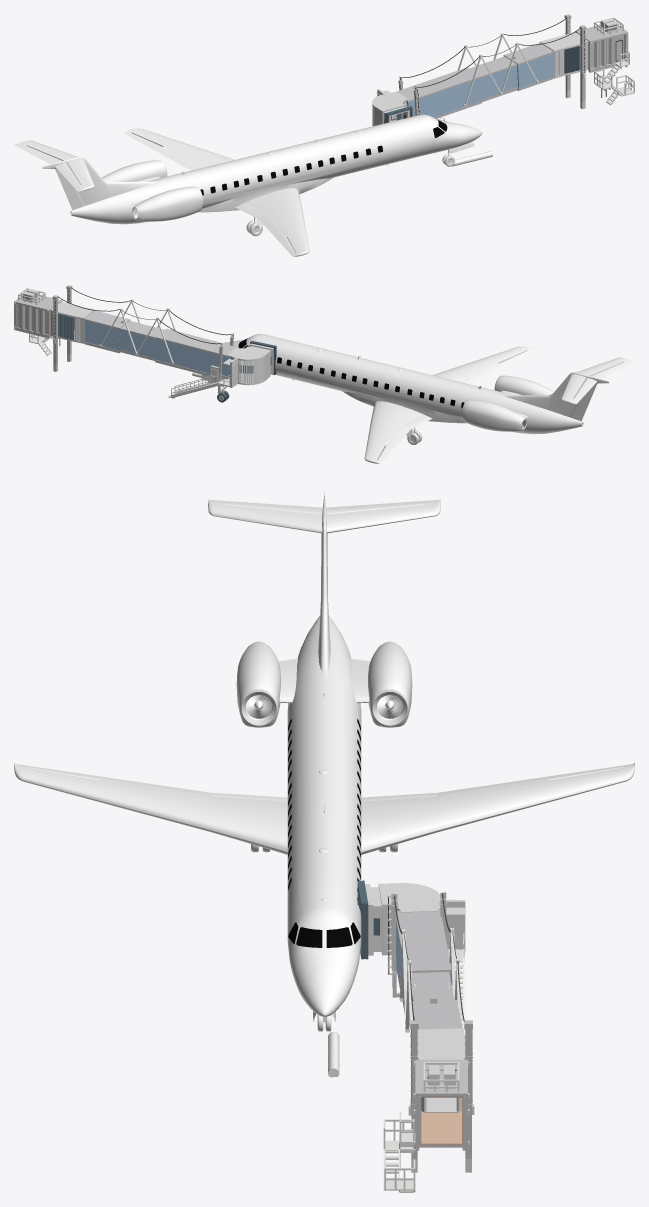
Rendered from uploads_files_254277_JetwayScene.fbx.
3 renders of one model, top to bottom at view 1: azimuth 30°, elevation 25°; view 2: azimuth 150°, elevation 25°; view 3: azimuth 270°, elevation 25°, orthographic. The views are drawn at different scales.
Parts seen in each view (by area): view 1: fuselage, Part555, ailes, moteurs, ailes2, vitres, direction, profondeurD; view 2: Part555, fuselage, ailes, moteurs, ailes2, vitres, direction, profondeurG, profondeurD, voletD1; view 3: fuselage, Part555, ailes, moteurs, ailes2, vitres, trous.
Boxes of the visible parts, x1,y1,x2,y2 form: fuselage: (42, 114, 482, 224); Part555: (372, 14, 634, 126); ailes: (123, 128, 309, 256); moteurs: (111, 160, 203, 221); ailes2: (27, 140, 94, 187); vitres: (200, 120, 447, 195); direction: (56, 170, 84, 210); profondeurD: (55, 162, 93, 191); Part555: (14, 285, 276, 402); fuselage: (223, 333, 608, 434); ailes: (364, 346, 534, 463); moteurs: (461, 375, 545, 431); ailes2: (561, 357, 622, 400); vitres: (238, 338, 464, 407); direction: (570, 385, 596, 421); profondeurG: (562, 378, 597, 404); profondeurD: (591, 357, 634, 379); voletD1: (462, 364, 503, 384); fuselage: (287, 492, 361, 1016); Part555: (357, 880, 474, 1192); ailes: (14, 763, 634, 854); moteurs: (236, 641, 412, 727); ailes2: (210, 505, 438, 533); vitres: (288, 719, 360, 947); trous: (241, 692, 407, 725).
Size of what is drawn, in the model's own units: 26115 by 4224 by 12627.
